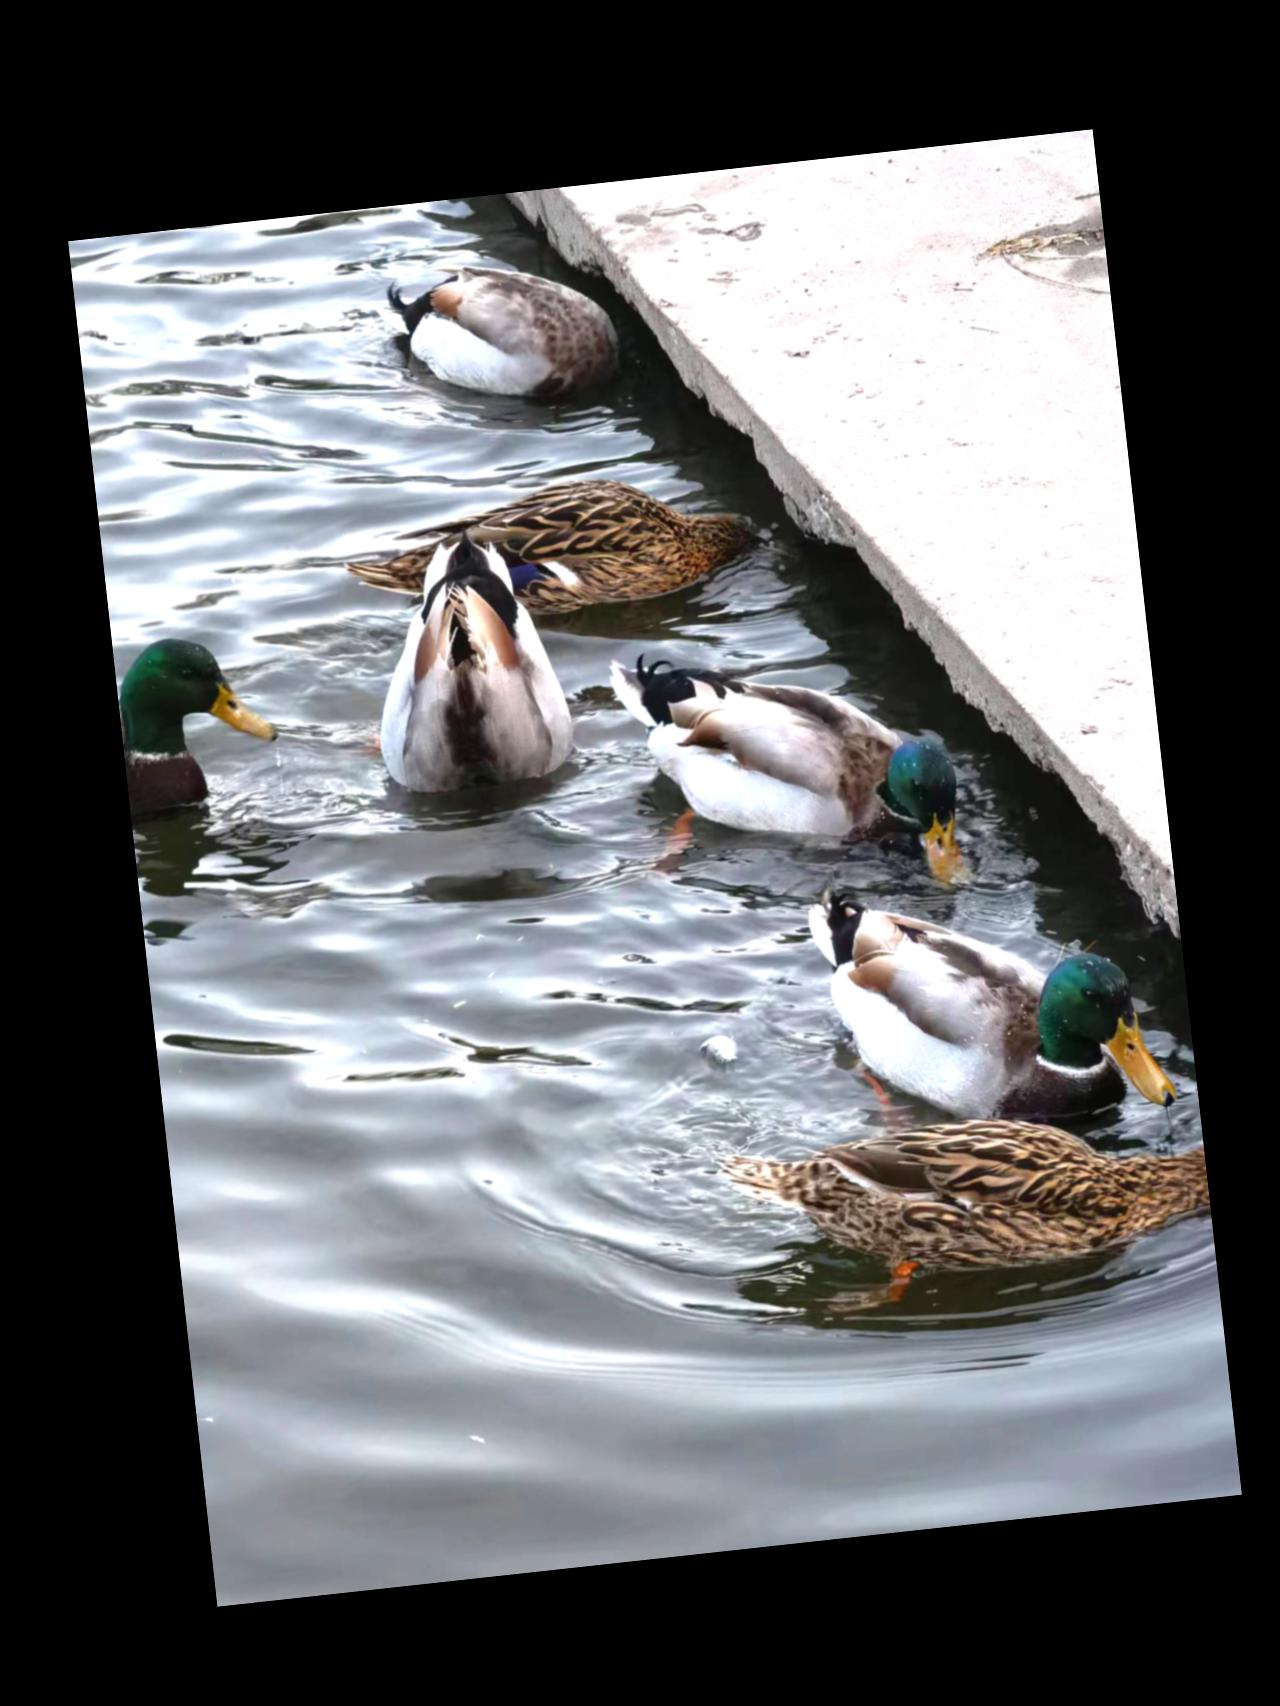duck: (701, 1078, 1211, 1334), (596, 612, 984, 936), (792, 839, 1176, 1145), (311, 440, 787, 657), (329, 512, 593, 813), (109, 609, 311, 920), (354, 245, 639, 428)
